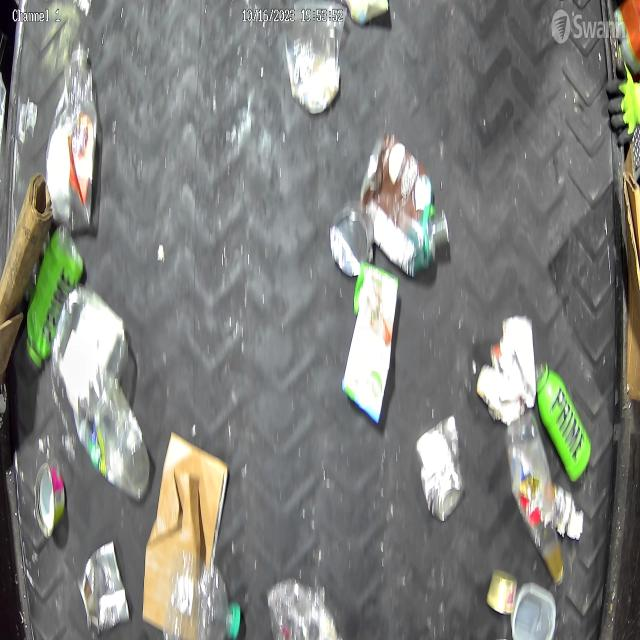can: (415, 406, 469, 525), (76, 534, 132, 638), (329, 180, 376, 288), (30, 454, 69, 545)
plastic_bottle: (50, 284, 151, 498), (360, 129, 450, 274), (46, 41, 98, 232), (164, 545, 244, 640), (268, 579, 343, 640)
